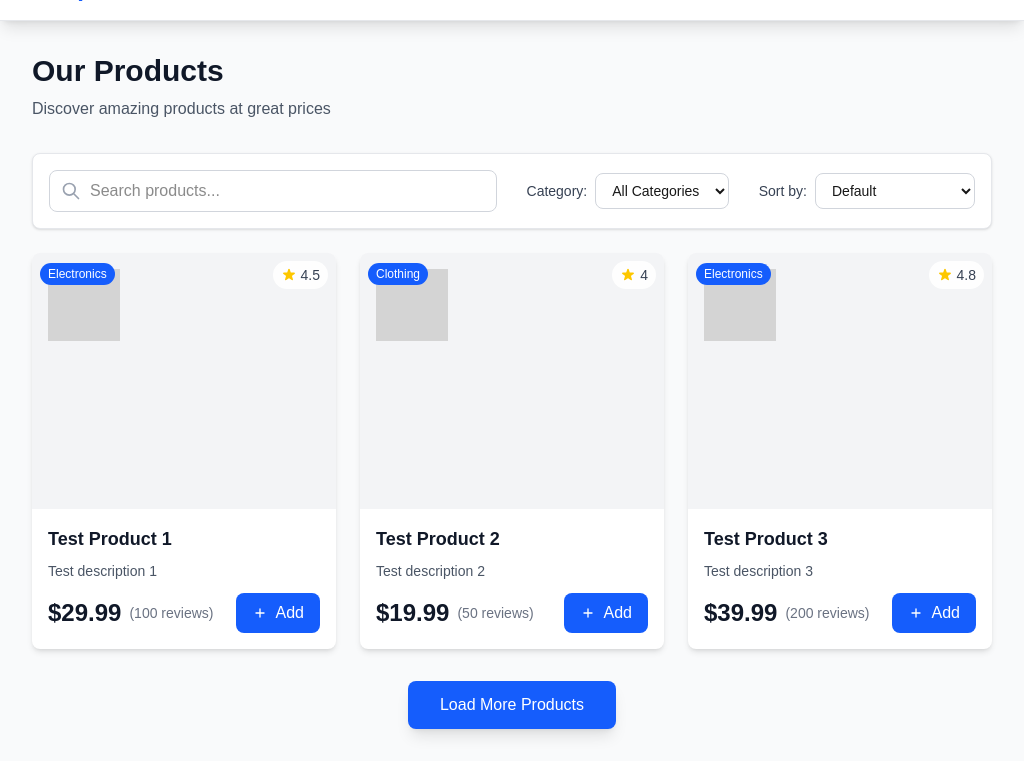
Test: Home Page › loads more products when "Load More" is clicked
(page scrolled)
Expected: the heading "Test Product 1" is shown, [48,529,172,549]
Click the button "Load More Products" at (512, 705), box [408,681,616,729]
(page scrolled)
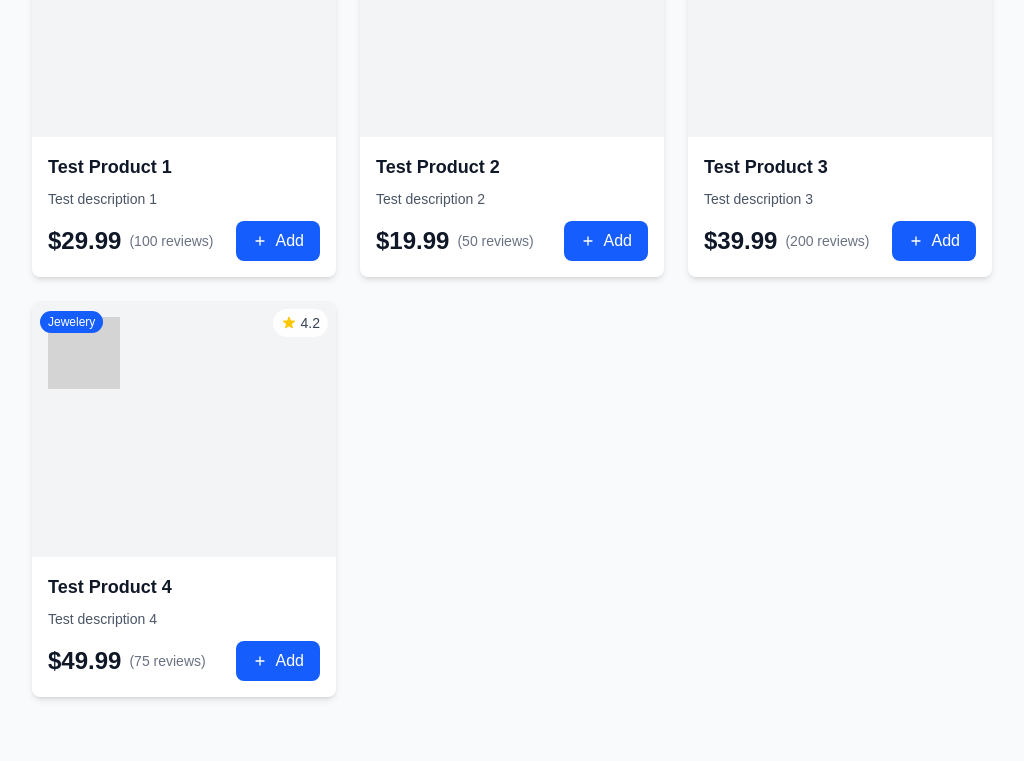
Result: the heading "Test Product 4" is shown at [48,577,172,597]
